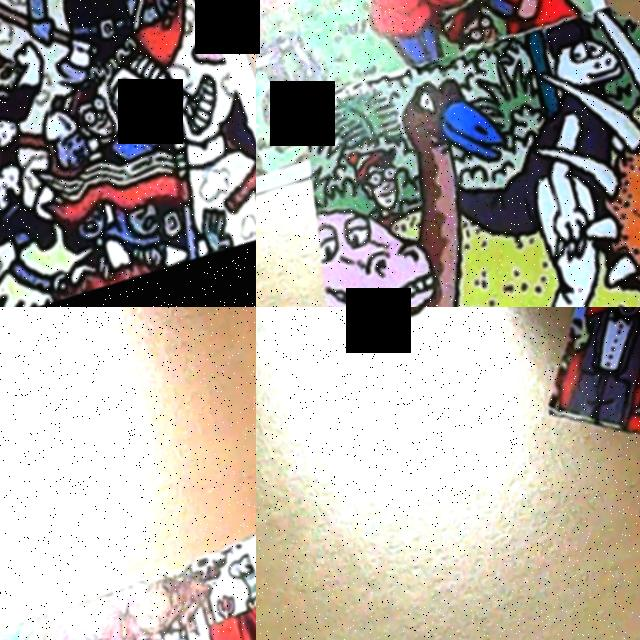waldo: (41, 64, 136, 172), (350, 144, 412, 223), (435, 0, 504, 65)
